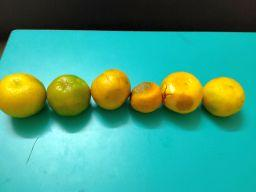orange: (0, 74, 46, 118), (47, 74, 91, 118), (162, 71, 203, 115), (202, 77, 245, 118), (92, 69, 131, 112), (130, 82, 164, 114)
